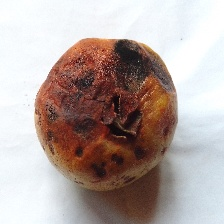guava: (3, 47, 194, 220)
